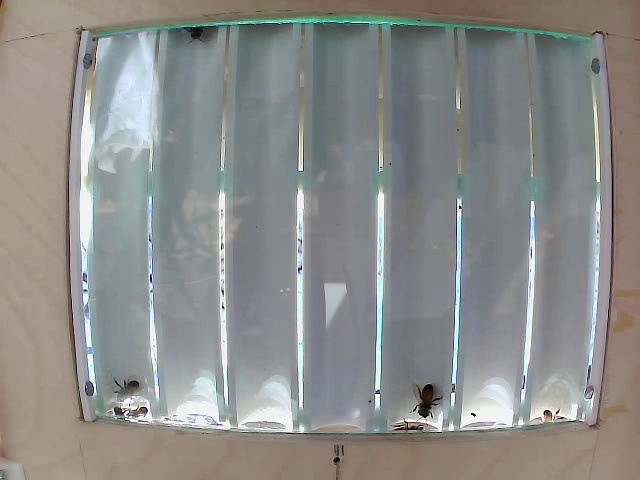bee: (404, 374, 453, 412)
